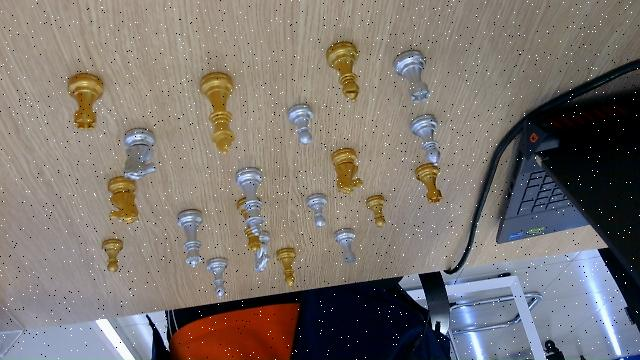black_bishop: (325, 41, 360, 102), (275, 247, 297, 289)
black_king: (197, 73, 235, 156)
black_knight: (330, 147, 363, 196), (108, 178, 139, 225)
black_pawn: (365, 193, 387, 228), (101, 239, 123, 273)
black_rook: (67, 73, 105, 130), (414, 163, 441, 204)
white_bishop: (410, 113, 440, 168), (210, 259, 227, 301)
white_knight: (123, 126, 157, 179)
white_pawn: (289, 102, 314, 146), (306, 193, 328, 227)
white_queen: (177, 208, 205, 268)
white_rook: (393, 49, 430, 103), (334, 226, 359, 262)
